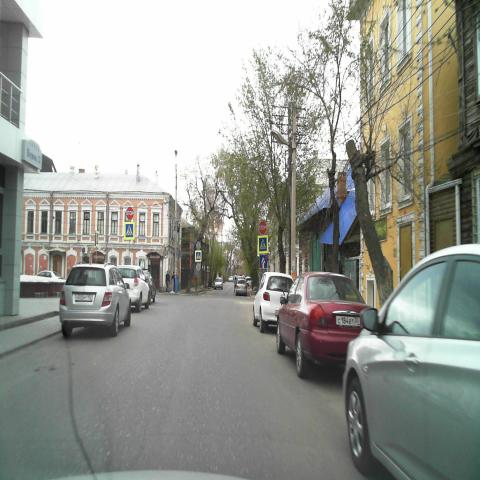2_5: (258, 220, 266, 234)
